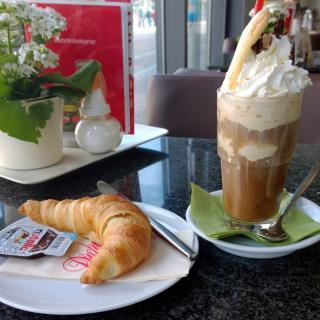Croissant: (18, 192, 153, 286)
Ice cream: (217, 18, 310, 132)
